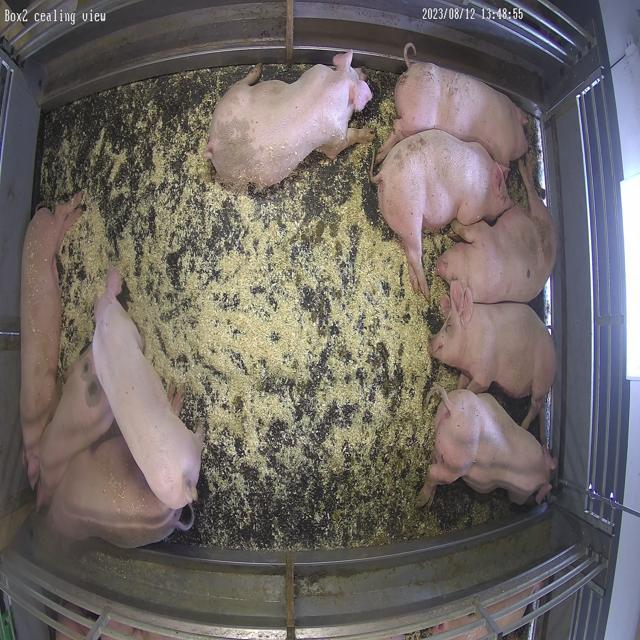Dirt: (318, 457, 514, 550)
Pig: (92, 270, 202, 510), (374, 129, 515, 296), (205, 52, 373, 186), (431, 281, 557, 430), (377, 43, 529, 166), (20, 193, 81, 488), (438, 160, 557, 304), (419, 390, 556, 506), (47, 434, 181, 548), (37, 349, 114, 508)
